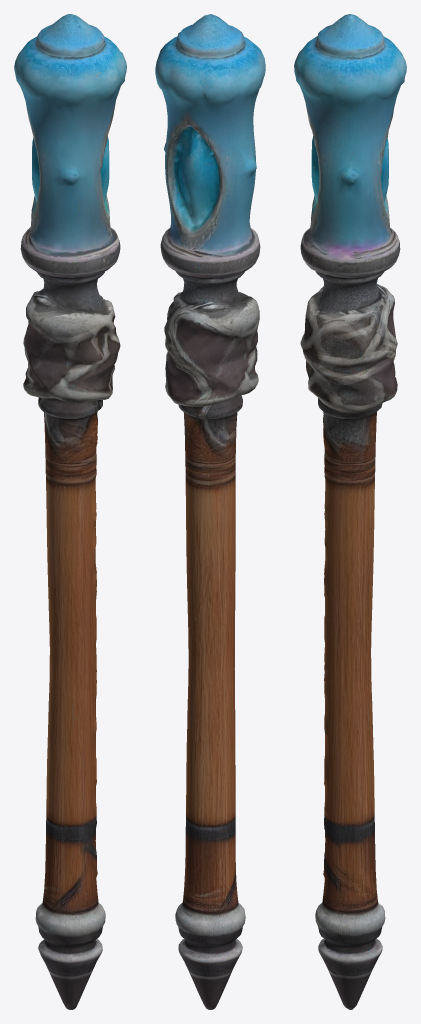
Rendered from staff1_mobile.glb.
3 views of the same model, side by side, from view 1: azimuth 90°, elevation 25°; view 2: azimuth 150°, elevation 25°; view 3: azimuth 270°, elevation 25° (orthographic).
Bounding box in the file's own units: 0.2053 × 2 × 0.2056.
Materials: 1 (1 with a texture image).
